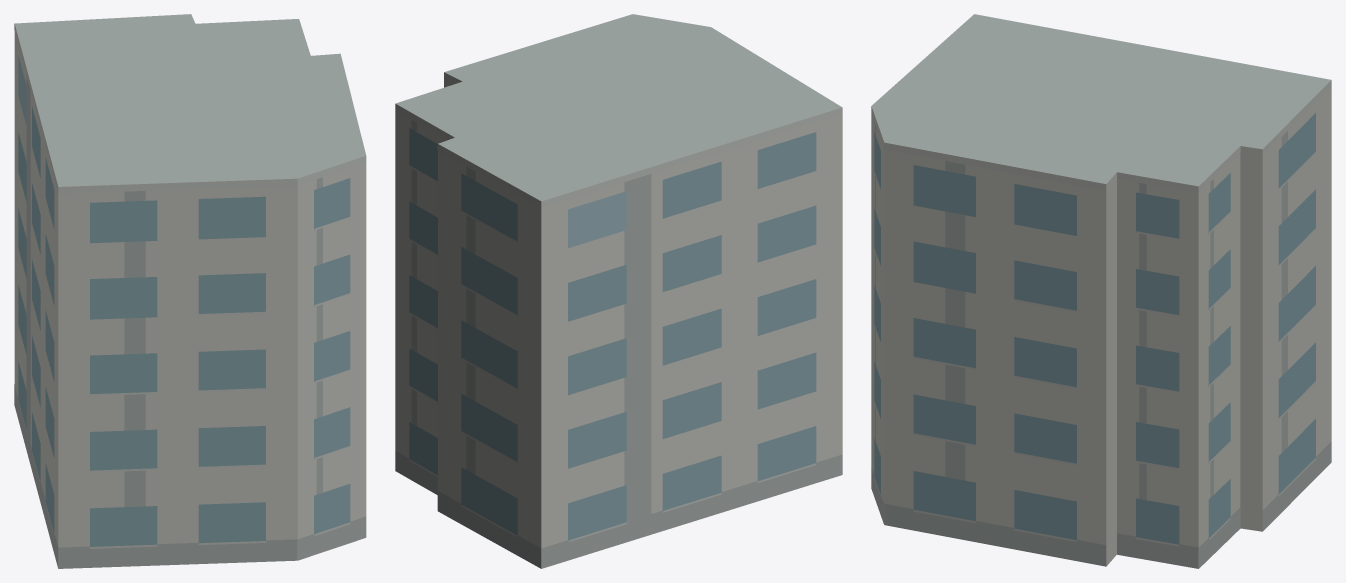
File: survey-upis-32566251.glb
3 renders of one model, left to right at view 1: azimuth 30°, elevation 25°; view 2: azimuth 150°, elevation 25°; view 3: azimuth 270°, elevation 25°, orthographic. The views are drawn at different scales.
Parts seen in each view (by area): view 1: survey-upis-32566251.tmp; view 2: survey-upis-32566251.tmp; view 3: survey-upis-32566251.tmp.
Part boxes in pixels (x1,y1,x2,y2): survey-upis-32566251.tmp: [14, 14, 366, 568]; survey-upis-32566251.tmp: [395, 14, 842, 568]; survey-upis-32566251.tmp: [871, 14, 1331, 568].
Size of the model in its own units: 12.96 by 13.4 by 14.62.
